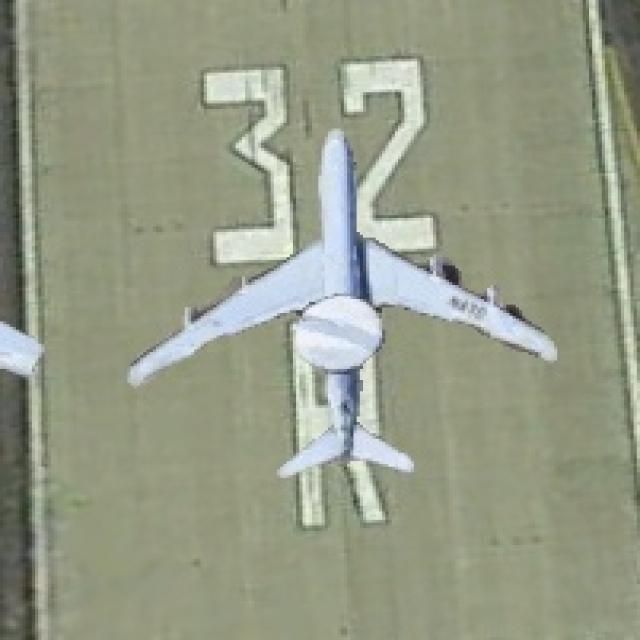E-3_TopDown: (128, 119, 568, 478)
